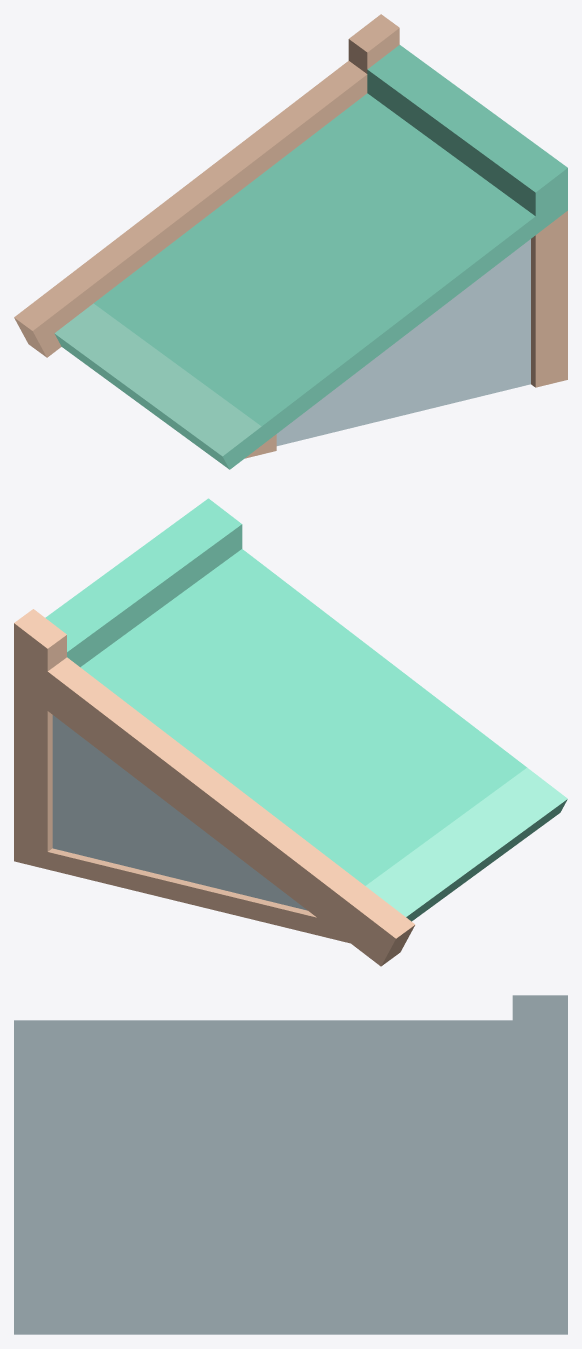
File: roofLeft.fbx
3 renders of one model, top to bottom at view 1: azimuth 30°, elevation 25°; view 2: azimuth 150°, elevation 25°; view 3: azimuth 270°, elevation 25°, orthographic. The views are drawn at different scales.
Visible parts, largest first — view 1: roofLeft; view 2: roofLeft; view 3: roofLeft.
Boxes of the visible parts, bbox=[...] form: roofLeft: bbox=[14, 14, 567, 469]; roofLeft: bbox=[14, 498, 567, 966]; roofLeft: bbox=[14, 995, 567, 1334].
Bounding box in the file's own units: 113 × 72.06 × 100.
